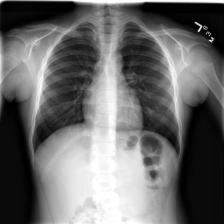normal: (29, 18, 182, 163)
